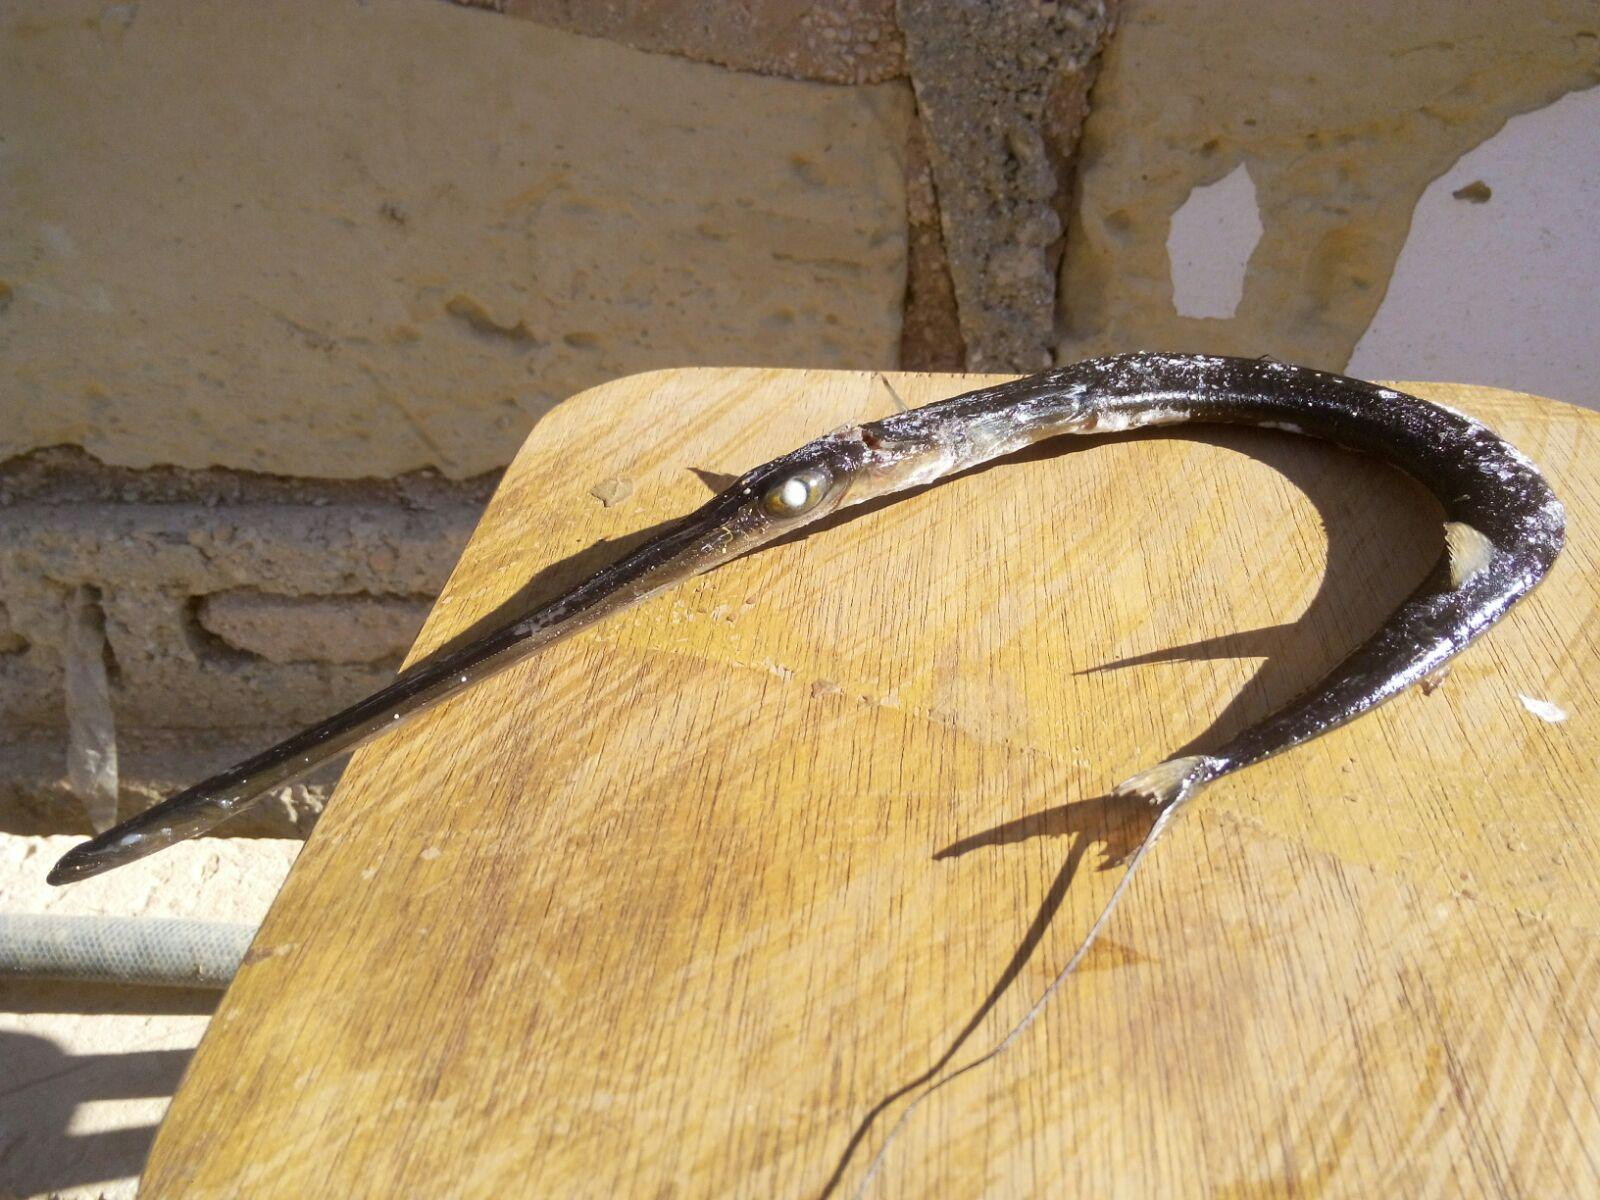Fistularia commersonii: (44, 345, 1569, 887)
